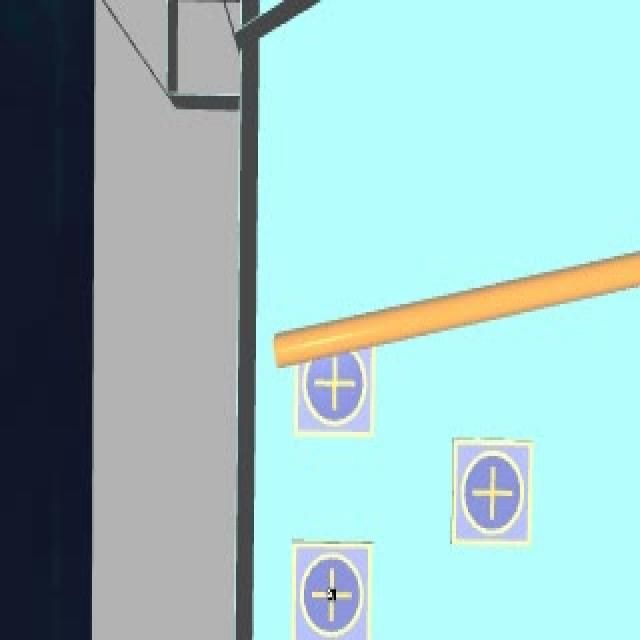Yellow-crosses: (468, 455, 514, 529), (314, 360, 365, 410), (309, 566, 352, 622)
